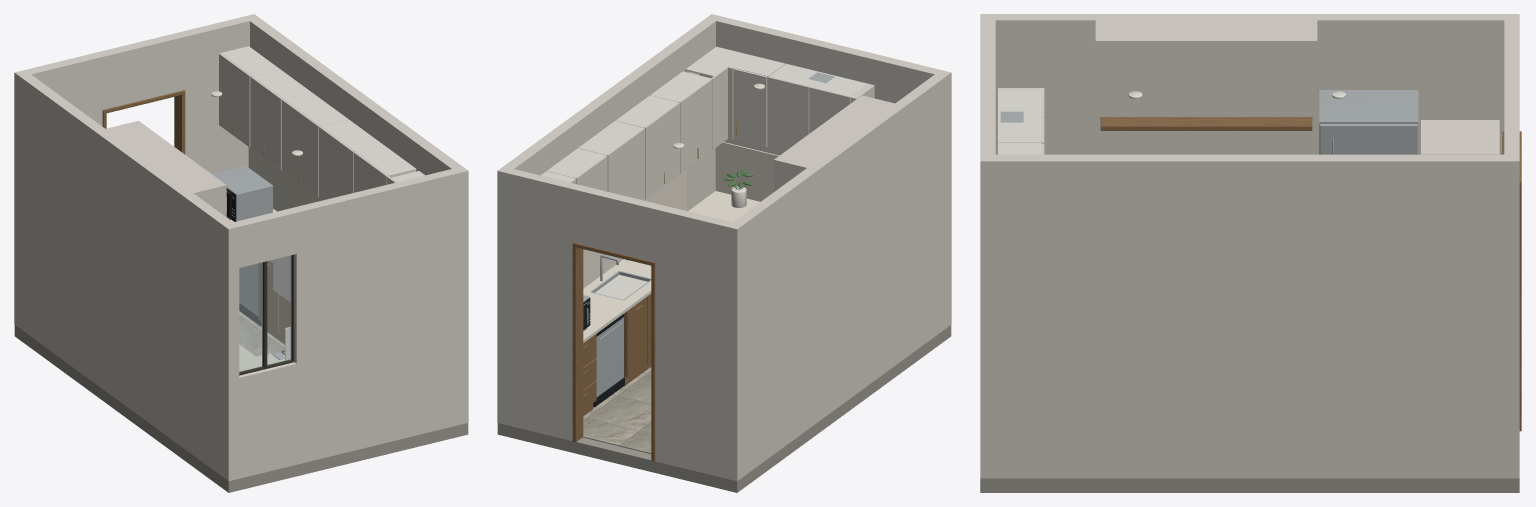
Rendered from Kitchen.glb.
3 renders of one model, left to right at view 1: azimuth 30°, elevation 25°; view 2: azimuth 150°, elevation 25°; view 3: azimuth 270°, elevation 25°, orthographic. The views are drawn at different scales.
Parts seen in each view (by area): view 1: East wall - PDF traced, North wall left of window, West wall - PDF traced, Entry wall left, Structural column - PDF traced, North window sill wall, Floor slab, Entry lintel, Entry wall right, North window lintel, Upper matte white door.002, Window glazing (+19 smaller); view 2: East wall - PDF traced, Entry wall right, Entry wall left, West wall - PDF traced, Floor slab, North wall left of window, Entry lintel, Structural column - PDF traced, Front upper Concealed extractor cabinet door, Back ivory backsplash, Upper matte white door.001, Corner upper square front door (+24 smaller); view 3: West wall - PDF traced, East wall - PDF traced, Structural column - PDF traced, Floor slab, Refrigerator shell top, Fridge door.001, Column oak floating shelf.001, Upright freezer shell top, Front upper Concealed extractor cabinet top, North wall left of window, Entry lintel, Oak entry jamb (+2 smaller).
Boxes of the visible parts, x1=… form: East wall - PDF traced: x1=14, y1=70, x2=239, y2=480; North wall left of window: x1=291, y1=169, x2=457, y2=464; West wall - PDF traced: x1=244, y1=14, x2=468, y2=424; Entry wall left: x1=177, y1=16, x2=249, y2=173; Structural column - PDF traced: x1=95, y1=120, x2=226, y2=319; North window sill wall: x1=239, y1=362, x2=296, y2=478; Floor slab: x1=14, y1=325, x2=468, y2=492; Entry lintel: x1=98, y1=33, x2=182, y2=109; Entry wall right: x1=25, y1=52, x2=104, y2=126; North window lintel: x1=233, y1=208, x2=296, y2=267; Upper matte white door.002: x1=281, y1=99, x2=320, y2=197; Window glazing: x1=267, y1=255, x2=291, y2=364; East wall - PDF traced: x1=726, y1=70, x2=951, y2=480; Entry wall right: x1=653, y1=204, x2=732, y2=478; Entry wall left: x1=508, y1=169, x2=580, y2=440; West wall - PDF traced: x1=497, y1=14, x2=721, y2=424; Floor slab: x1=497, y1=325, x2=951, y2=492; North wall left of window: x1=716, y1=16, x2=882, y2=155; Entry lintel: x1=575, y1=185, x2=659, y2=261; Structural column - PDF traced: x1=774, y1=95, x2=905, y2=191; Front upper Concealed extractor cabinet door: x1=767, y1=76, x2=809, y2=152; Back ivory backsplash: x1=715, y1=142, x2=778, y2=201; Upper matte white door.001: x1=643, y1=102, x2=679, y2=198; Corner upper square front door: x1=733, y1=68, x2=767, y2=147; West wall - PDF traced: x1=980, y1=154, x2=1519, y2=477; East wall - PDF traced: x1=980, y1=14, x2=1519, y2=154; Structural column - PDF traced: x1=1095, y1=14, x2=1317, y2=154; Floor slab: x1=980, y1=478, x2=1519, y2=492; Refrigerator shell top: x1=1319, y1=90, x2=1418, y2=124; Fridge door.001: x1=1319, y1=124, x2=1417, y2=154; Column oak floating shelf.001: x1=1100, y1=117, x2=1312, y2=130; Upright freezer shell top: x1=1421, y1=120, x2=1499, y2=154; Front upper Concealed extractor cabinet top: x1=998, y1=91, x2=1041, y2=142; North wall left of window: x1=980, y1=55, x2=995, y2=154; Entry lintel: x1=1504, y1=65, x2=1519, y2=113; Oak entry jamb: x1=1519, y1=183, x2=1521, y2=431.
Bounding box in the file's own units: 2.74 × 2.88 × 4.26.
Materials: 15 (2 with a texture image).
